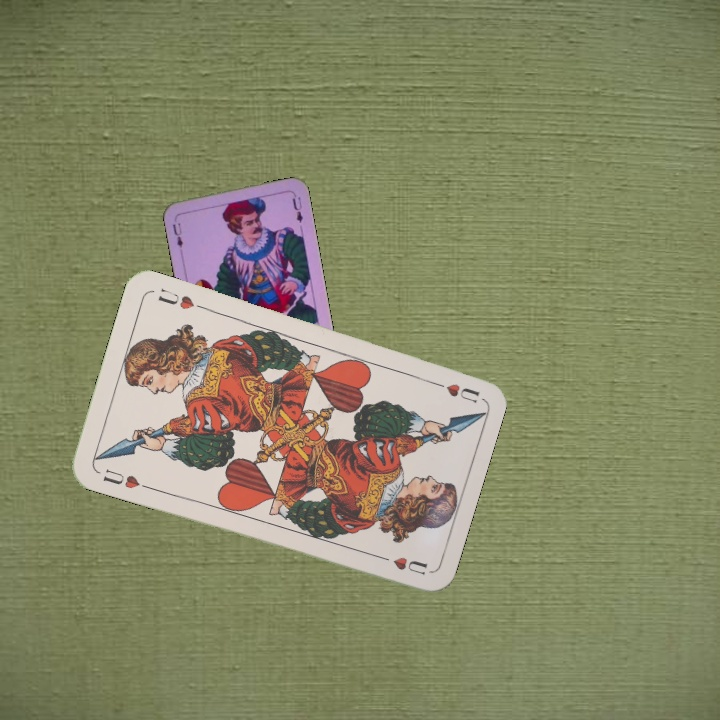EU: (168, 219, 186, 250)
HU: (425, 376, 482, 405), (98, 465, 152, 492)
